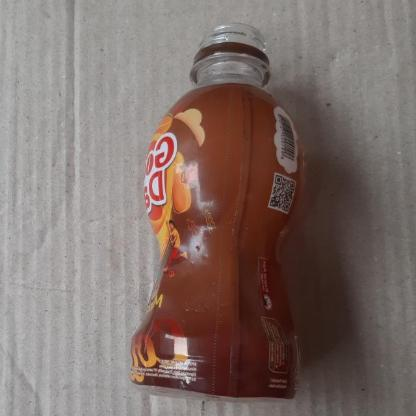Plastic Bottle: (128, 23, 307, 405)
